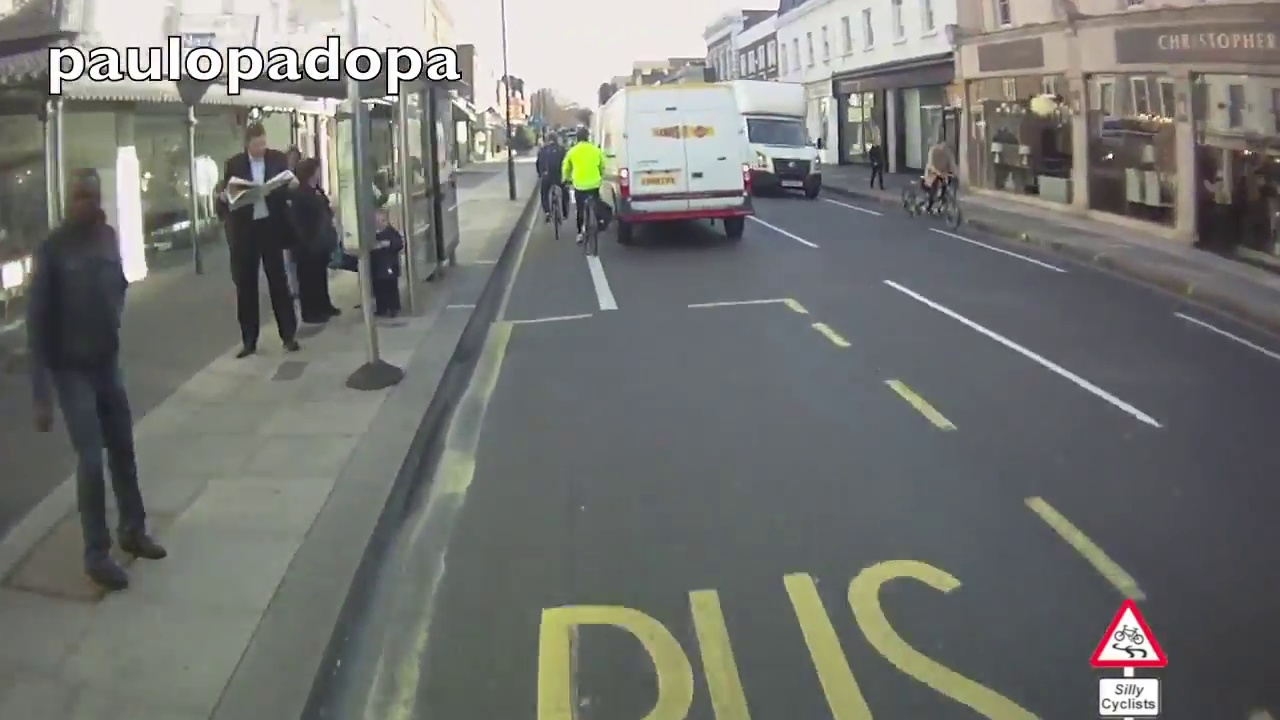cyclist_back: (564, 127, 607, 260), (536, 126, 573, 243)
cyclist_front: (909, 131, 963, 230)
